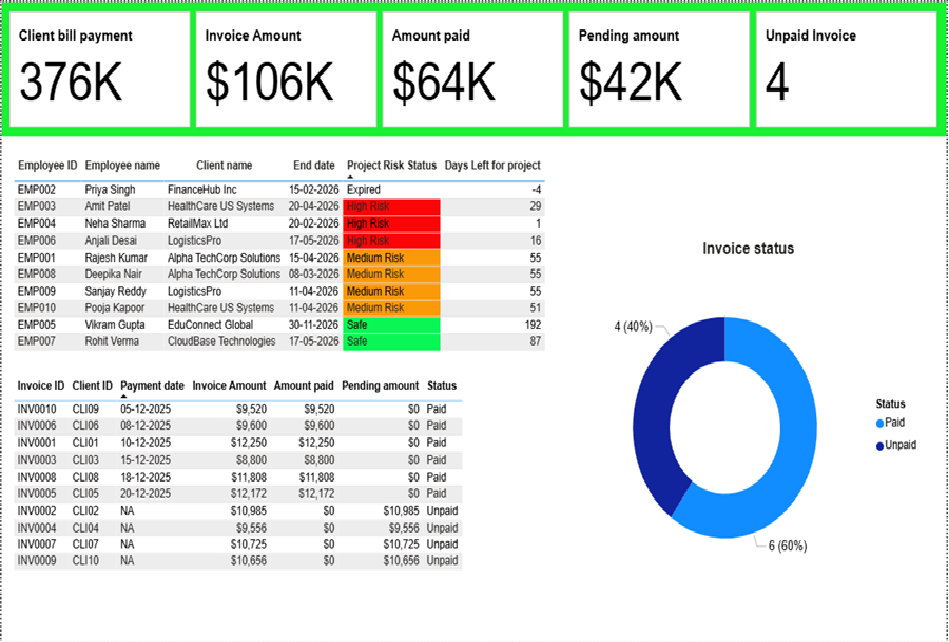

This screenshot's page, from the dashboard's own definition file:
{"tool":"powerbi","page":{"name":"Invoice Status","canvas":[1280,720],"ordinal":4},"visuals":[{"type":"tableEx","fields":{"Values":["Employees details.Employee ID","Employees details.Employee name ","Clients.Client name","Employees details.End date ","project details.Project Risk Status","project details.Days Left for project "]},"box":[5.3,165.5,747.5,247.4],"z":0},{"type":"tableEx","fields":{"Values":["Invoice&payments.Invoice ID","Invoice&payments.Client ID","Invoice&payments.Payment date ","Invoice&payments.Invoice Amount","Invoice&payments.Amount paid","Invoice&payments.Pending amount ","Invoice&payments.Status"]},"box":[5.3,412.9,635.4,263.4],"z":1000},{"type":"cardVisual","fields":{"Data":["Sum(Employees timesheet lookup.Client bill payment )","Sum(Invoice&payments.Invoice Amount)","Sum(Invoice&payments.Amount paid)","Sum(Invoice&payments.Pending amount )","Measure.Unpaid Invoice"]},"box":[0,0,1279.7,151.3],"z":2000},{"type":"donutChart","title":"Invoice status","fields":{"Category":["Invoice&payments.Status"],"Y":["CountNonNull(Invoice&payments.Invoice ID)"]},"box":[765.3,256.3,493,420],"z":3000}]}

Visuals, with their boxes on the page's 1280x720 design canvas (x1, y1, x2, y2). These are canvas units, not pixel positions in the 949x642 screenshot, which may show the page scaled, cropped or inside an application window:
tableEx - Employees details.Employee ID x Employees details.Employee name : Rect(5, 166, 753, 413)
tableEx - Invoice&payments.Invoice ID x Invoice&payments.Client ID: Rect(5, 413, 641, 676)
cardVisual - Sum(Employees timesheet lookup.Client bill payment ) x Sum(Invoice&payments.Invoice Amount): Rect(0, 0, 1280, 151)
"Invoice status" donutChart: Rect(765, 256, 1258, 676)
